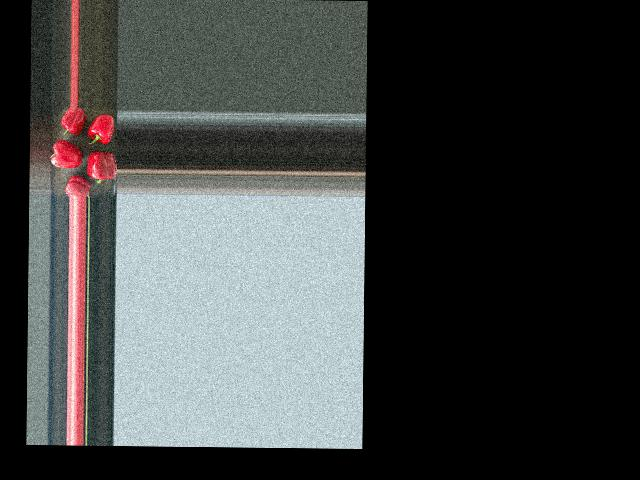bell_pepper: (60, 174, 91, 196)
